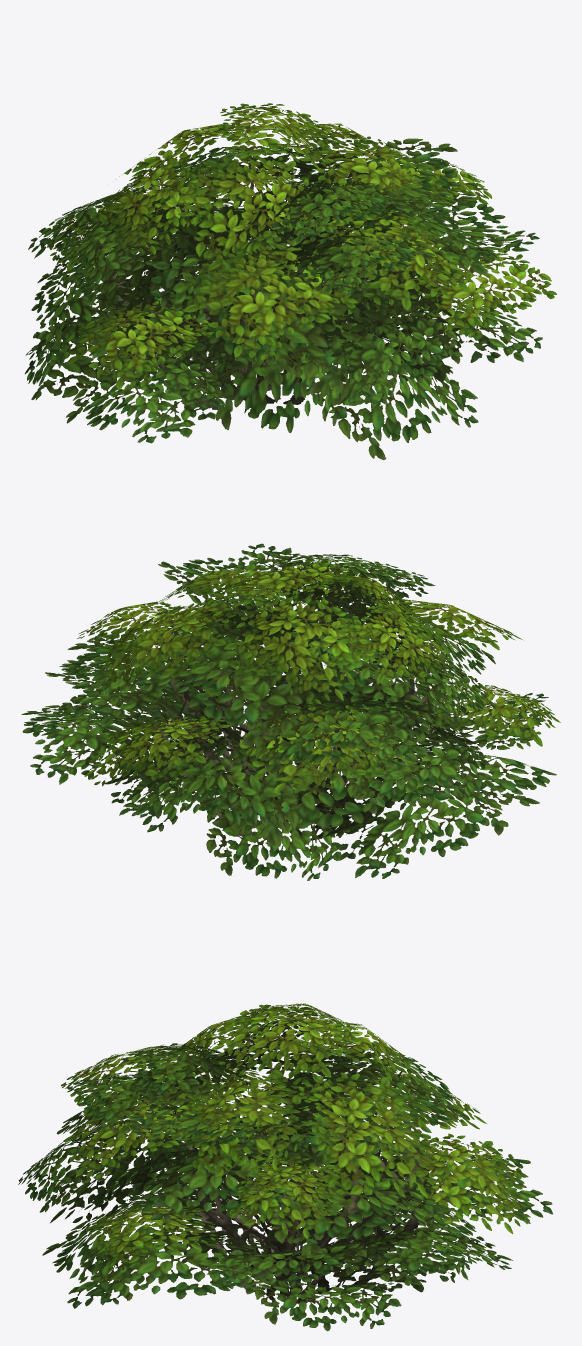
File: wm_灌木大灌木06.fbx
3 views of the same model, one above another, from view 1: azimuth 30°, elevation 25°; view 2: azimuth 150°, elevation 25°; view 3: azimuth 270°, elevation 25° (orthographic). The views are drawn at different scales.
Visible parts, largest first — view 1: wm_灌木大灌木06; view 2: wm_灌木大灌木06; view 3: wm_灌木大灌木06.
Boxes of the visible parts, bbox=[...] form: wm_灌木大灌木06: bbox=[25, 103, 556, 460]; wm_灌木大灌木06: bbox=[21, 543, 560, 880]; wm_灌木大灌木06: bbox=[18, 1003, 552, 1331].
Bounding box in the file's own units: 335 × 201 × 337.
